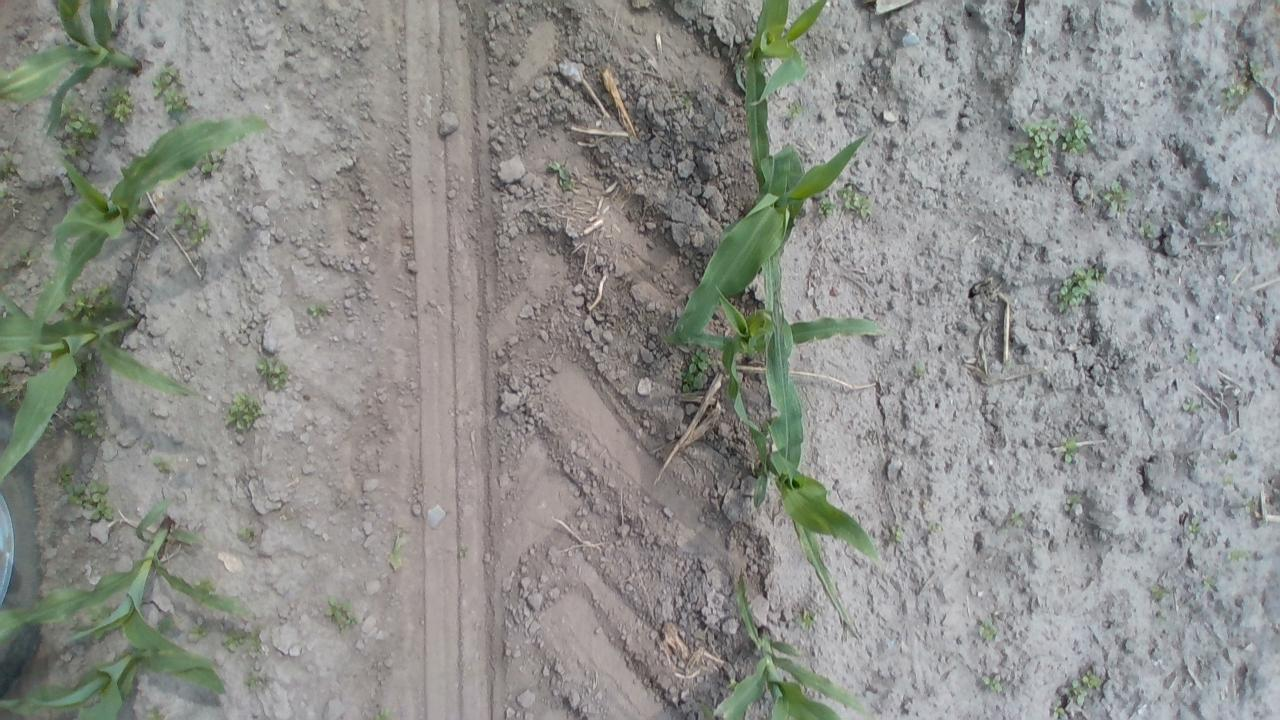Maize: (31, 114, 275, 364), (667, 97, 881, 372), (732, 249, 883, 630), (0, 498, 250, 695), (1, 288, 198, 490), (672, 290, 886, 474), (706, 570, 875, 718), (0, 608, 221, 717), (735, 0, 838, 206), (0, 0, 147, 141)
Weeds: (1006, 116, 1062, 180), (58, 92, 100, 158), (60, 285, 121, 327), (1053, 267, 1104, 313), (153, 62, 191, 118), (66, 479, 116, 521), (218, 391, 266, 434), (172, 198, 214, 244), (678, 346, 712, 396), (253, 354, 292, 394), (104, 82, 137, 126), (1061, 113, 1092, 156), (220, 624, 263, 654), (323, 596, 358, 632), (836, 184, 872, 218), (70, 353, 98, 394), (1220, 75, 1253, 109), (1100, 179, 1132, 213), (85, 604, 115, 640), (545, 156, 575, 191), (72, 409, 104, 441), (1056, 432, 1082, 467), (14, 241, 42, 270), (1061, 678, 1092, 704), (386, 534, 408, 570), (243, 666, 271, 693), (54, 463, 75, 498), (974, 616, 1000, 644), (1076, 670, 1102, 696), (192, 576, 220, 600), (304, 300, 332, 323), (1206, 212, 1230, 238), (188, 620, 215, 642), (882, 523, 906, 547), (198, 151, 222, 175), (795, 606, 818, 631), (237, 522, 259, 546), (1184, 514, 1204, 540), (816, 195, 838, 218), (0, 155, 18, 183), (980, 673, 1004, 694), (140, 703, 173, 718), (1180, 397, 1206, 416), (1150, 579, 1171, 602), (1186, 8, 1212, 26), (1225, 545, 1247, 566), (1062, 492, 1083, 514), (1182, 344, 1202, 366), (1138, 218, 1158, 240), (1051, 701, 1076, 718), (786, 101, 804, 122), (676, 88, 692, 111), (1242, 496, 1260, 516), (1250, 62, 1266, 84), (1008, 509, 1026, 528), (1200, 573, 1218, 592), (368, 704, 392, 718), (910, 360, 927, 379), (152, 456, 172, 472), (699, 703, 718, 719), (924, 521, 942, 537), (1218, 474, 1238, 487), (1222, 450, 1239, 465), (3, 393, 20, 408), (1266, 228, 1280, 246), (0, 370, 10, 388), (140, 441, 153, 454), (42, 426, 54, 440), (0, 185, 10, 200), (727, 678, 738, 690)
